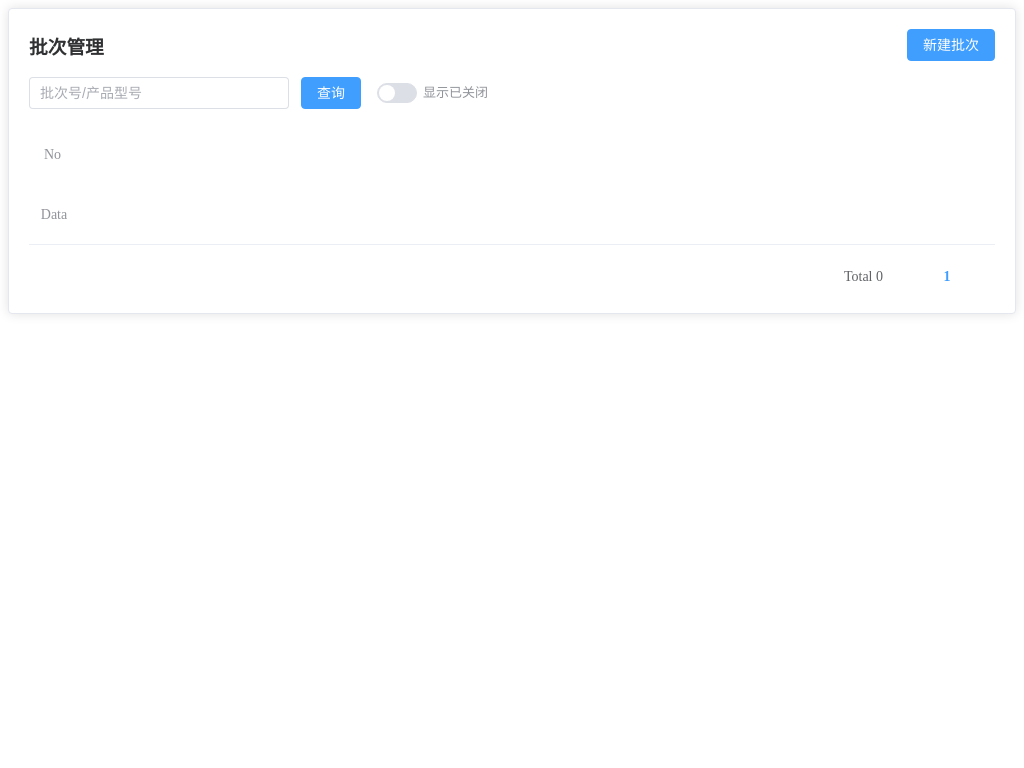
Test: BatchListPage › fills batch number from generate api
What coordinates should you click on to do the following:
click the button "新建批次"
I would click on:
 (951, 45)
Its box is [907,29,995,61].
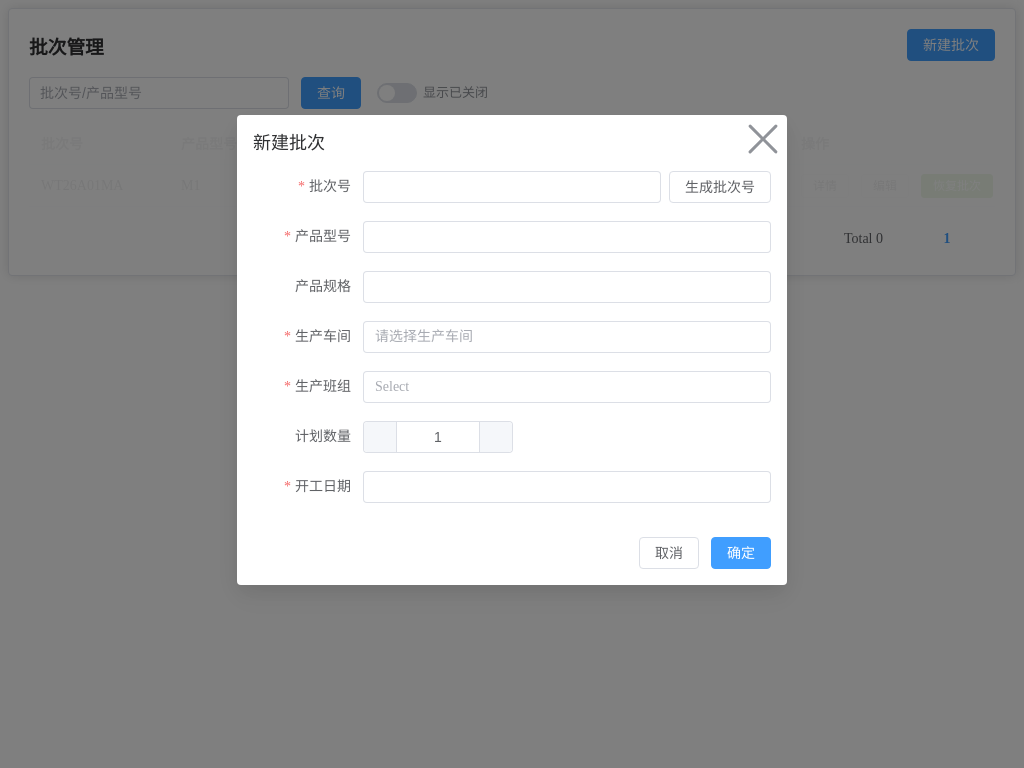
Expected: the button "生成批次号" is shown
What coordinates should you click on to do the following:
click the button "生成批次号"
I would click on:
 (720, 187)
Its box is [669,171,771,203].
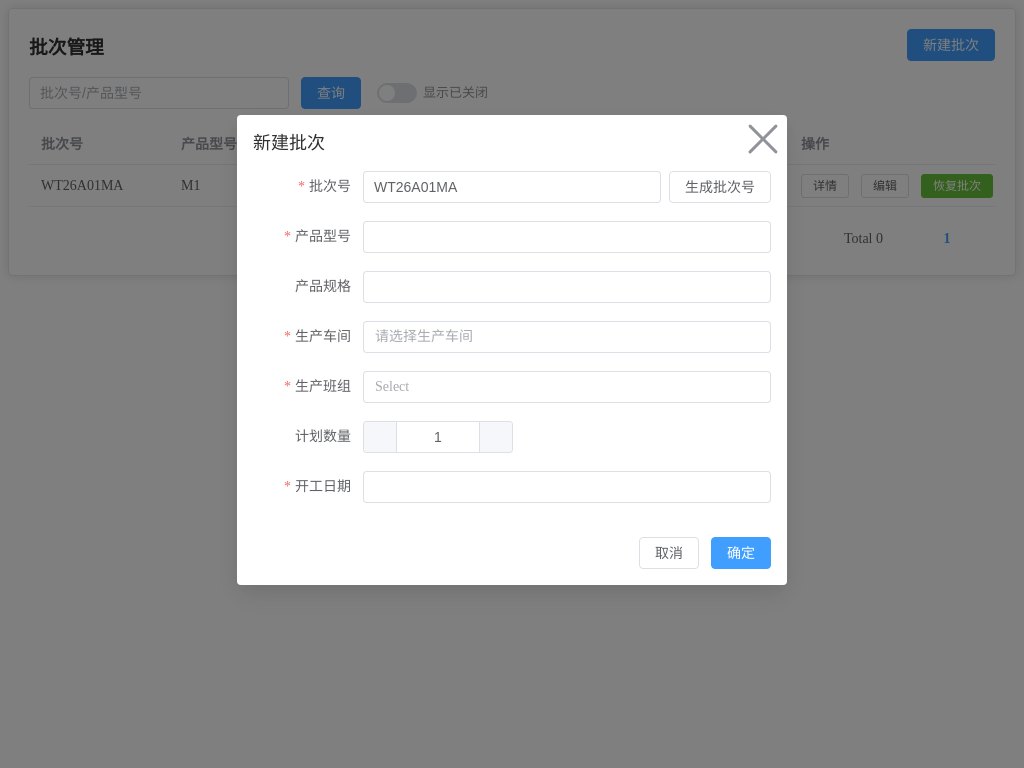
Expected: the field labelled "批次号" holds "WT26A01MA", [374,172,650,202]
